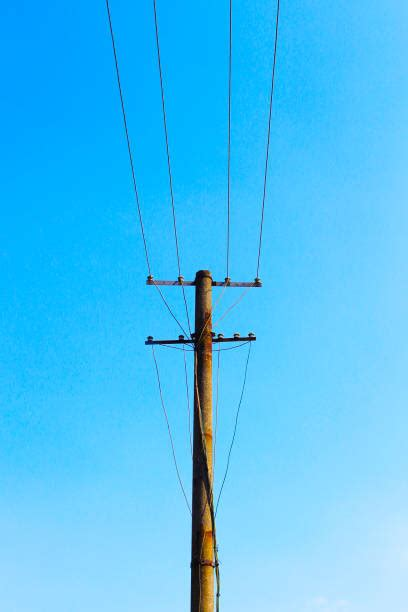pole: (132, 255, 280, 612)
